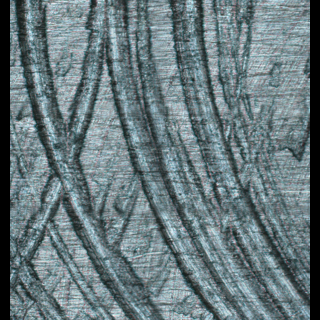d: (12, 0, 309, 318)
